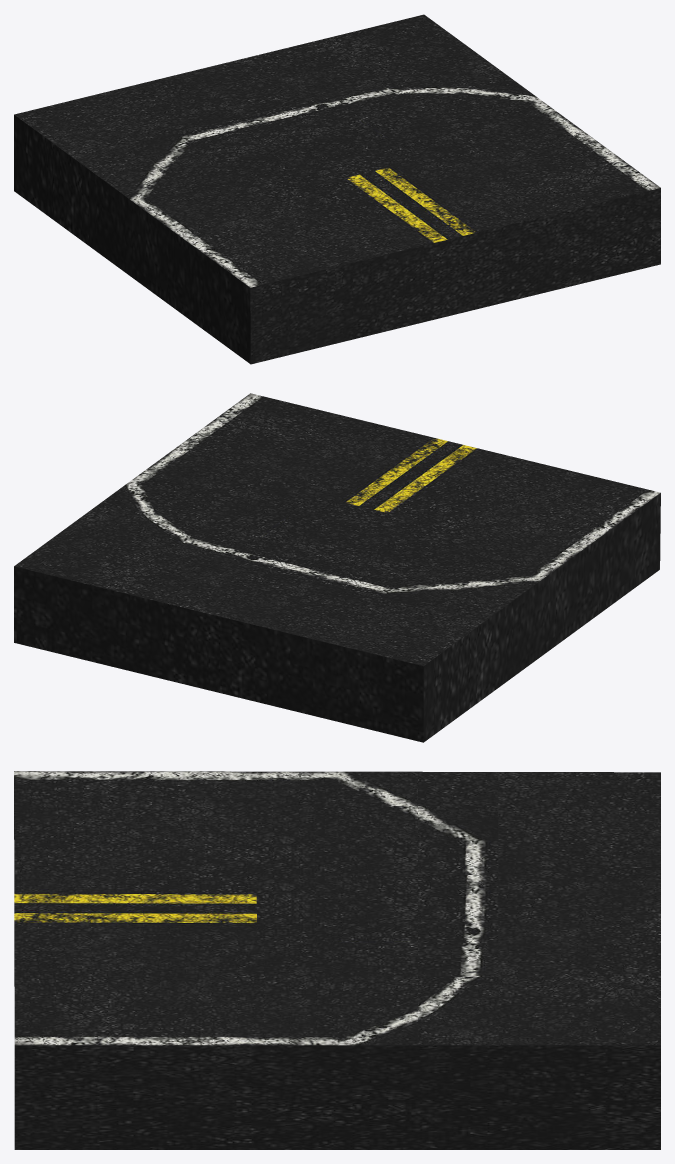
Rendered from PavementEnd.fbx.
3 views of the same model, one above another, from view 1: azimuth 30°, elevation 25°; view 2: azimuth 150°, elevation 25°; view 3: azimuth 270°, elevation 25° (orthographic). The views are drawn at different scales.
Visible parts, largest first — view 1: PavementEnd; view 2: PavementEnd; view 3: PavementEnd.
Part boxes in pixels (left/top/right/bottom): PavementEnd: left=14, top=14, right=660, bottom=364; PavementEnd: left=14, top=393, right=660, bottom=742; PavementEnd: left=14, top=771, right=660, bottom=1149.
Bounding box in the file's own units: 326 × 58.33 × 325.
1 material, 1 textured.
